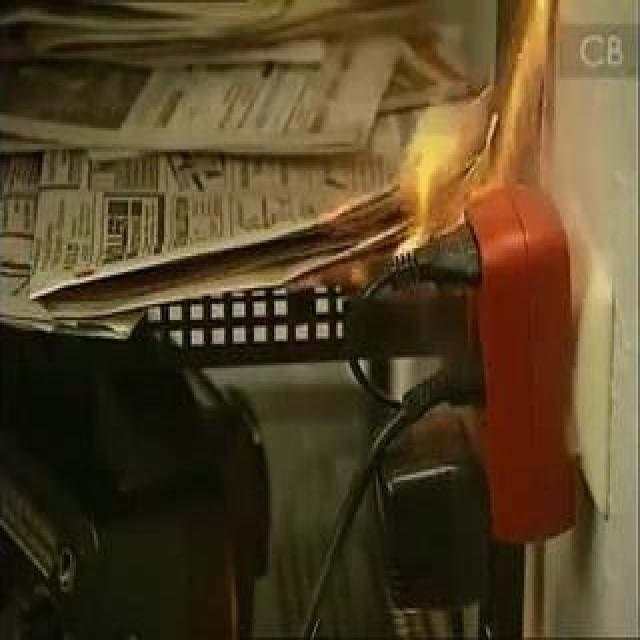Fire: (295, 5, 539, 296)
